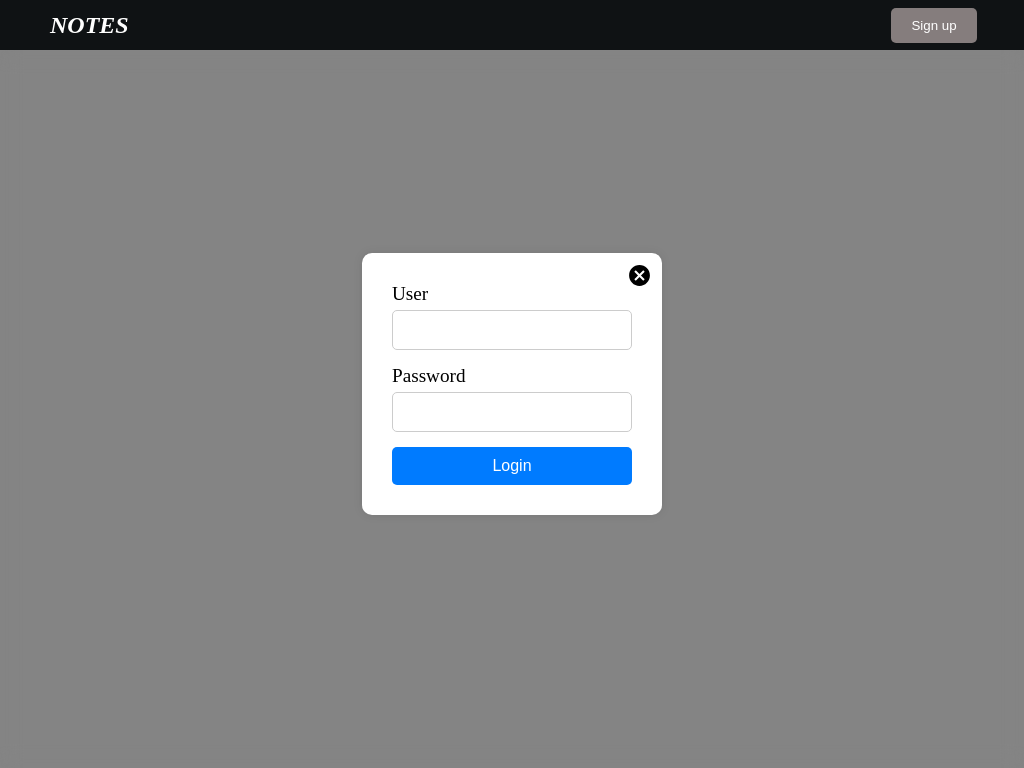
Test: note app › login form can be opened
Click the icon with class "container-form--icon": click(640, 276) x1=627 y1=263 x2=652 y2=288
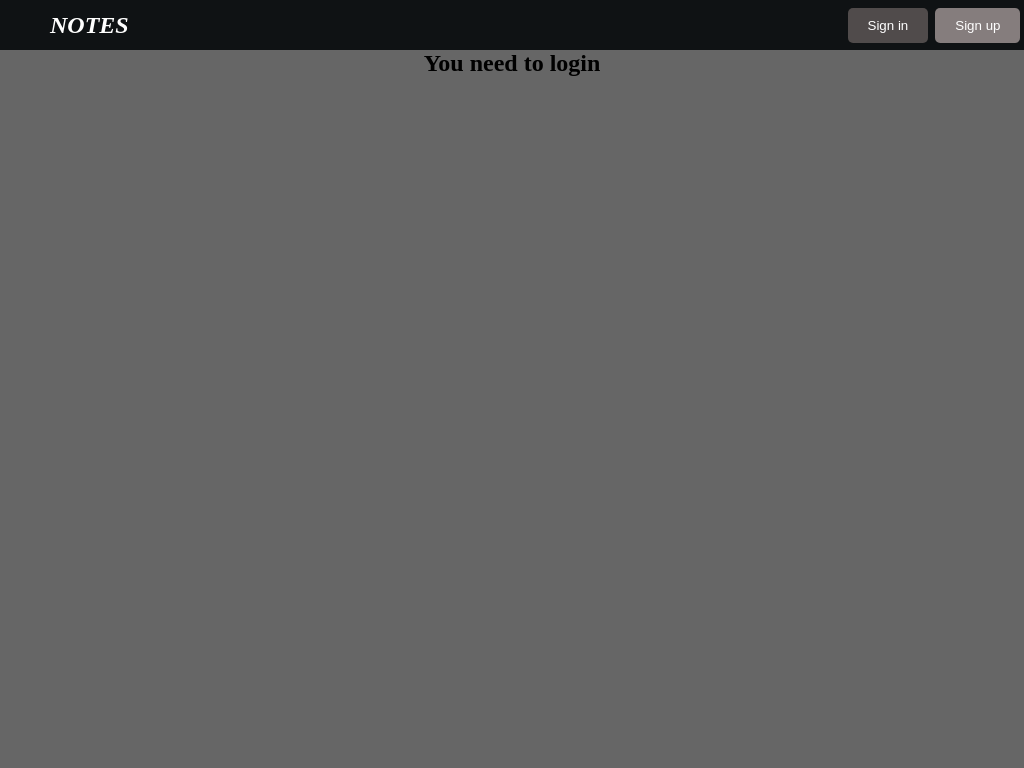
Result: the heading "You need to login" is shown at x1=424 y1=50 x2=600 y2=77
